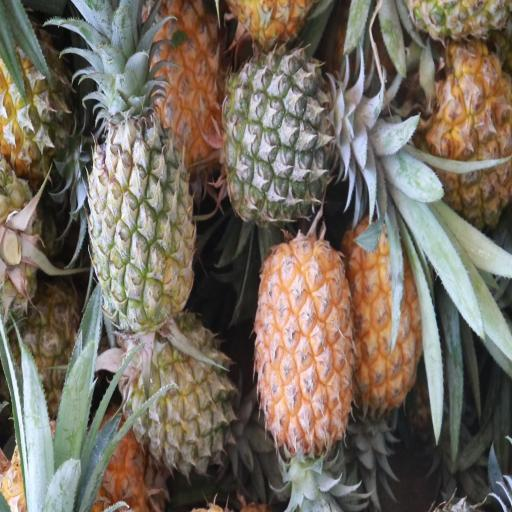------------------------------: (90, 113, 198, 316), (130, 318, 235, 468)
Pineapple - v8 v1: (256, 248, 356, 454), (142, 0, 233, 163), (346, 222, 425, 403), (427, 50, 512, 209)
